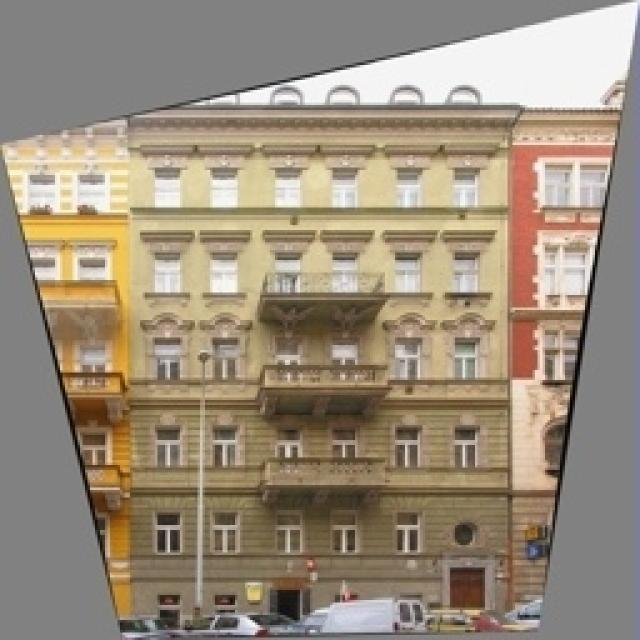building: (120, 97, 518, 635)
